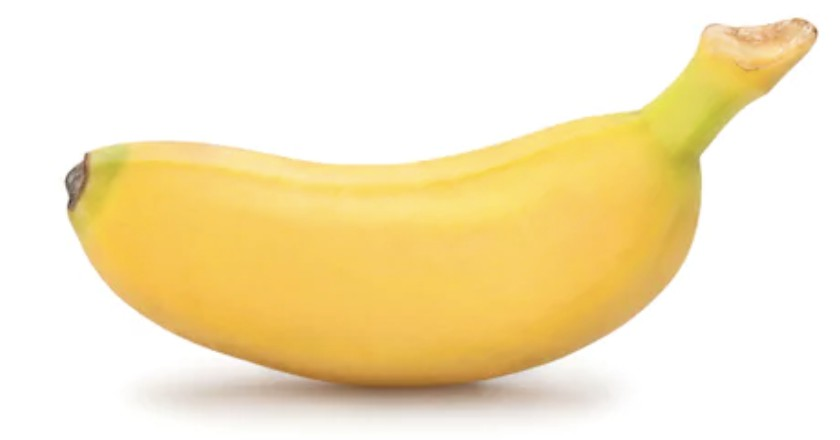fresh_banana: (68, 19, 817, 386)
